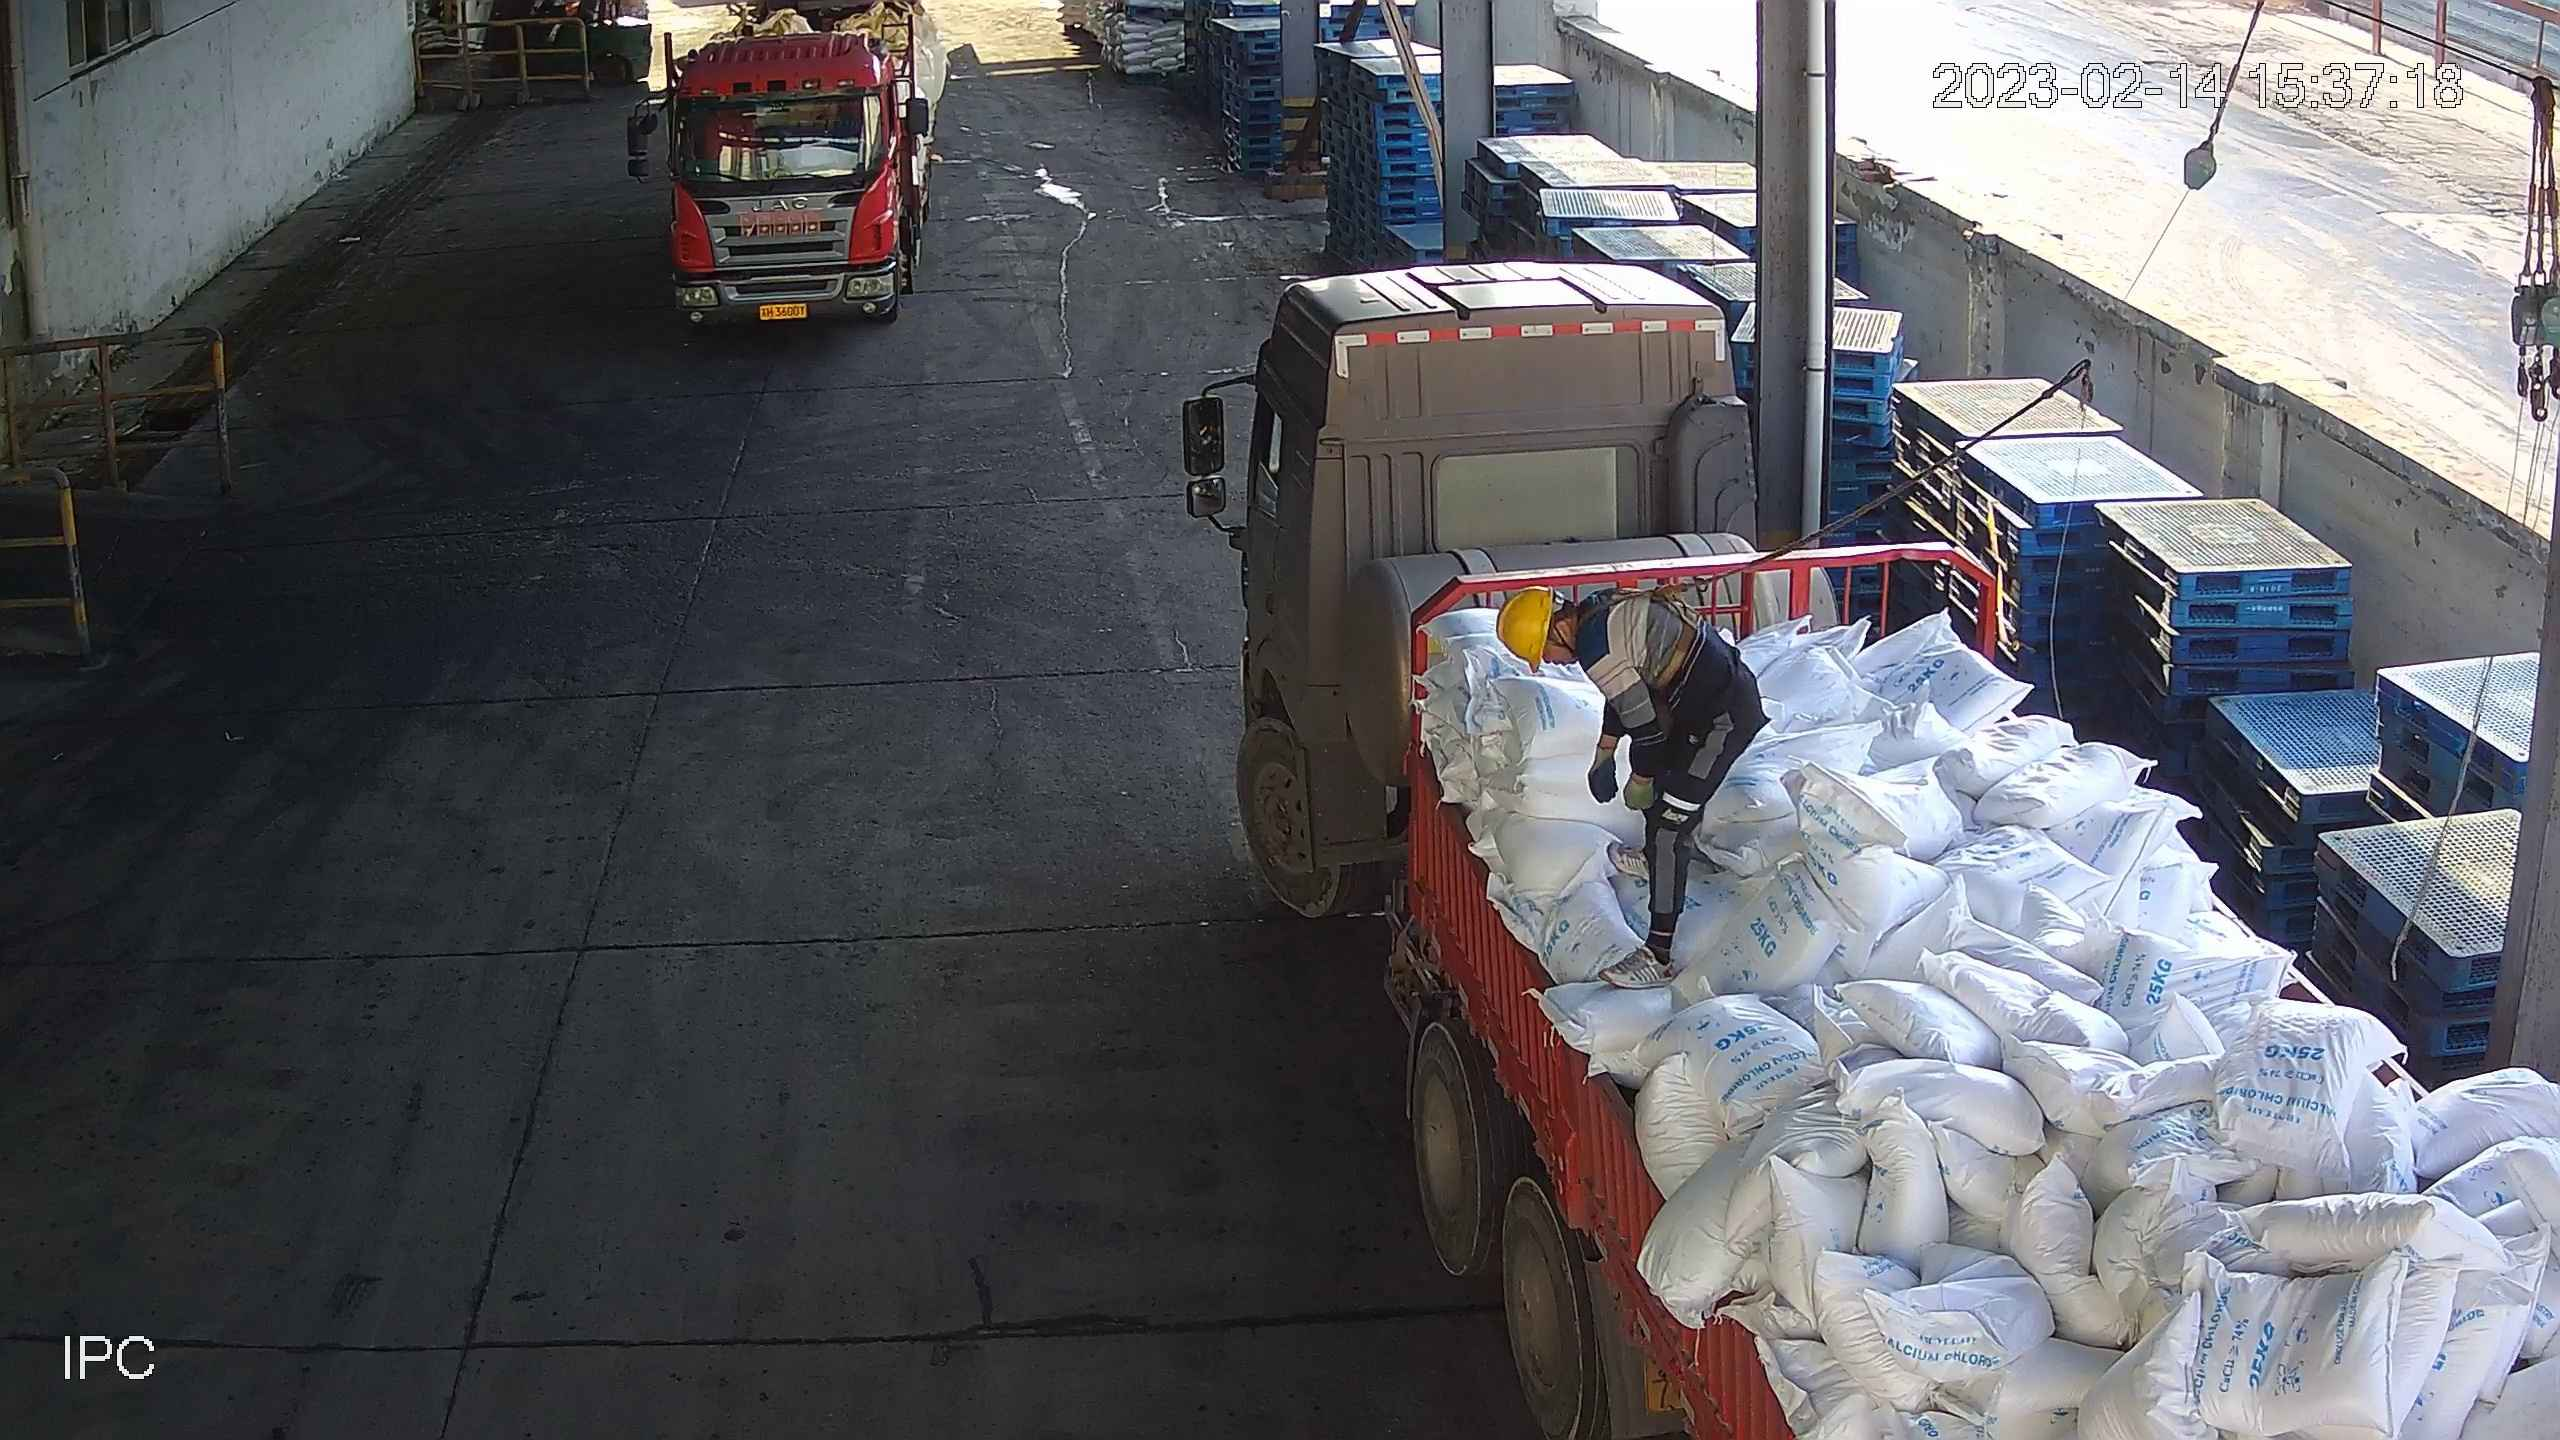belt: (1605, 575, 1696, 632)
head: (1486, 577, 1662, 725)
helmet: (1488, 577, 1555, 662)
people: (1492, 574, 1753, 1011)
truck: (1181, 260, 2560, 1440), (635, 4, 948, 325)
